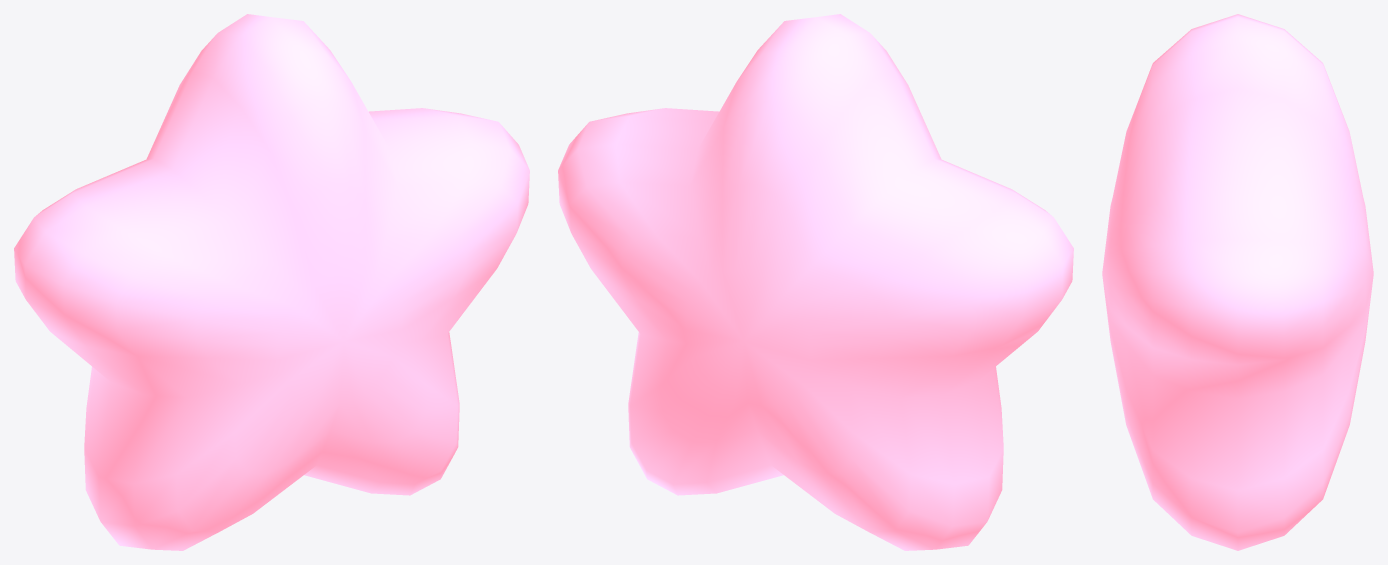
Rendered from Star.fbx.
3 renders of one model, left to right at view 1: azimuth 30°, elevation 25°; view 2: azimuth 150°, elevation 25°; view 3: azimuth 270°, elevation 25°, orthographic. The views are drawn at different scales.
Visible parts, largest first — view 1: Star; view 2: Star; view 3: Star.
Boxes of the visible parts, x1,y1,x2,y2 form: Star: [14, 14, 529, 550]; Star: [558, 14, 1073, 550]; Star: [1102, 14, 1373, 550].
Size of the model in its own units: 0.3752 by 0.3641 by 0.1897.
